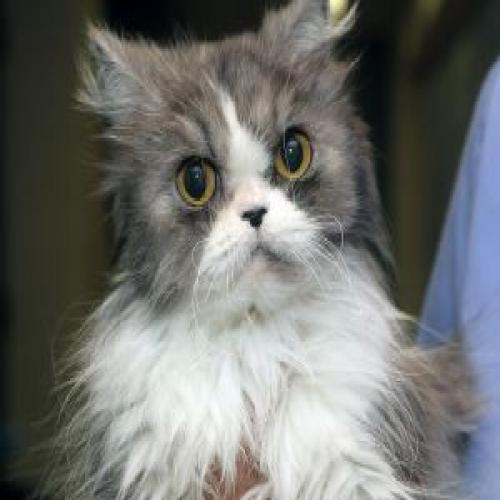persian: (70, 8, 380, 329)
